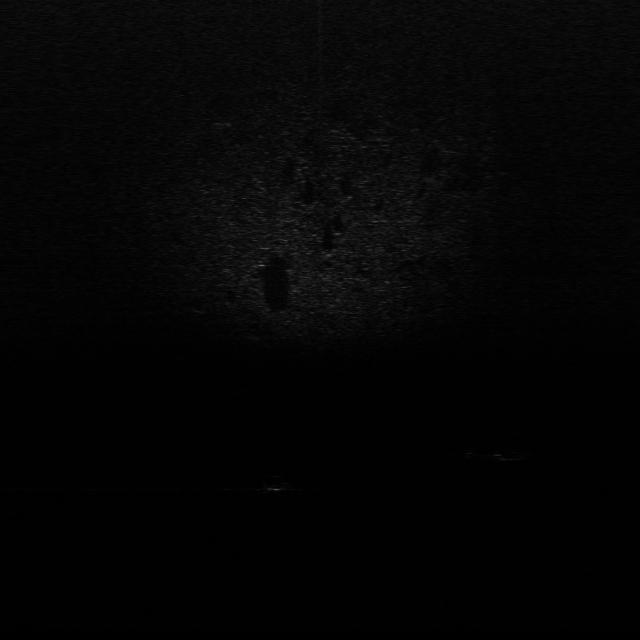ball: (258, 473, 294, 494)
human body: (456, 442, 540, 464)
